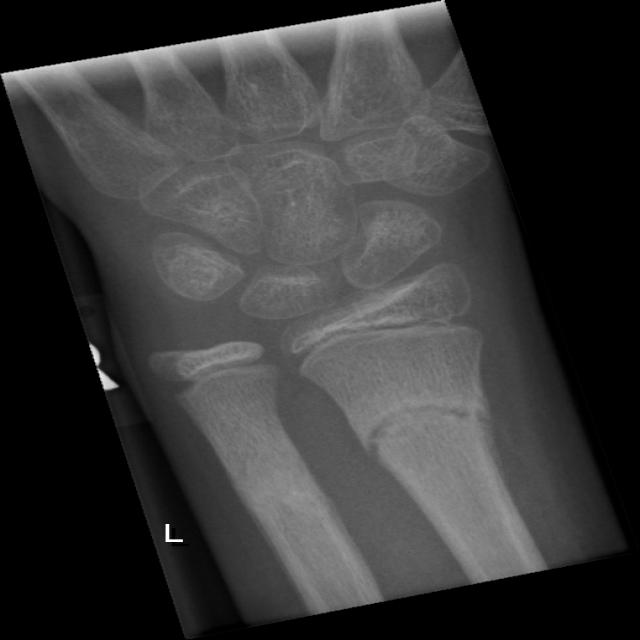radius fracture: (333, 378, 540, 493)
